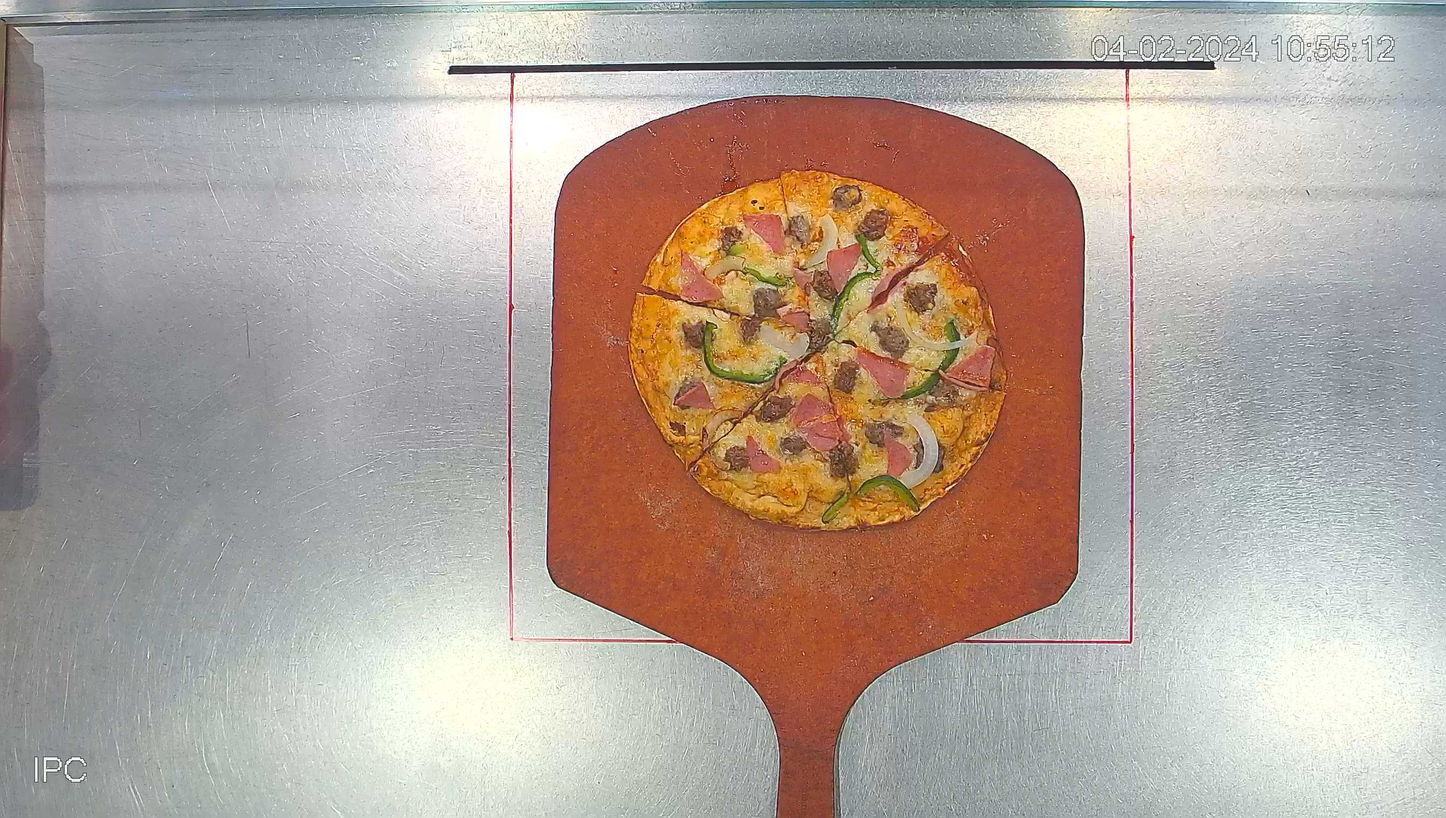hawaiian: (627, 170, 1007, 531)
